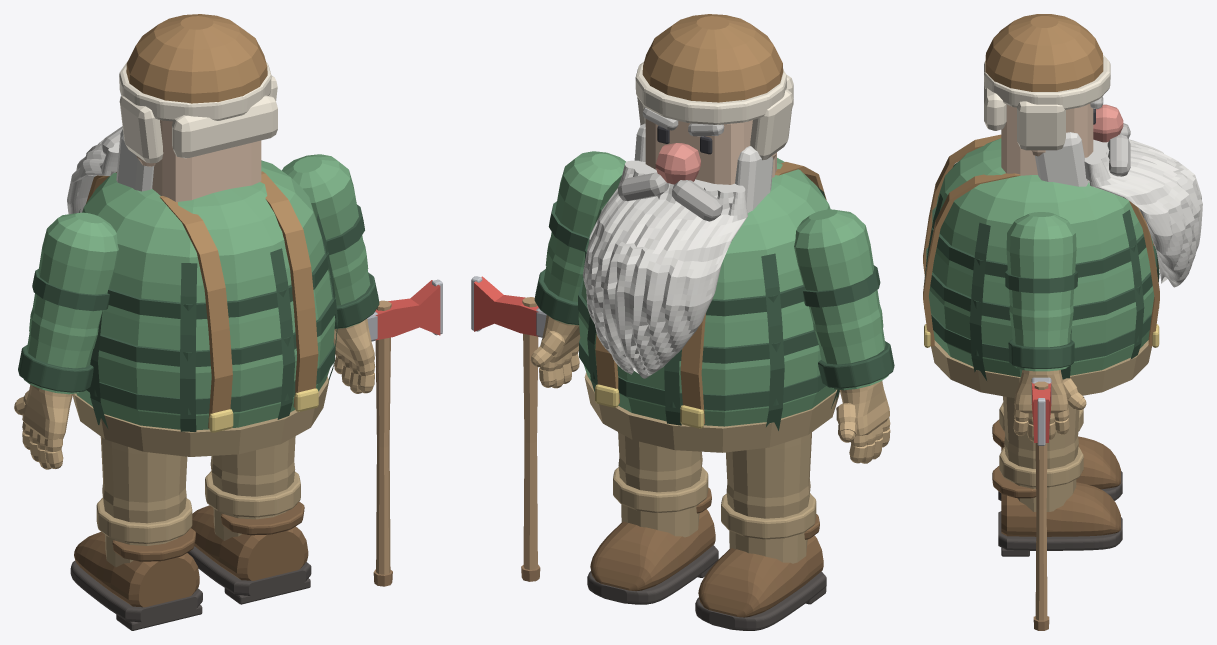
File: npc_lumberman.glb
3 views of the same model, side by side, from view 1: azimuth 30°, elevation 25°; view 2: azimuth 150°, elevation 25°; view 3: azimuth 270°, elevation 25° (orthographic). The views are drawn at different scales.
Visible parts, largest first — view 1: Belly, TrapperCrown, UpperArm_L, Waist, Boot_L, Face, Boot_R, Strap_B-1, Strap_B1, UpperArm_R, Thigh_L, FlapBack (+33 smaller); view 2: Beard, Belly, TrapperCrown, UpperArm_L, Waist, Boot_L, Boot_R, UpperArm_R, Thigh_L, TrapperBrim, Face, Axe_Handle (+32 smaller); view 3: Belly, Beard, TrapperCrown, UpperArm_R, Boot_R, Waist, Face, PlaidBand1, TrapperBrim, Flap_1, Axe_Handle, PlaidBand0 (+24 smaller).
Boxes of the visible parts, x1,y1,x2,y2 form: Belly: (76, 160, 335, 430); TrapperCrown: (126, 14, 267, 103); UpperArm_L: (33, 212, 118, 329); Waist: (73, 376, 328, 456); Boot_L: (74, 532, 199, 607); Face: (152, 120, 261, 201); Boot_R: (191, 505, 308, 580); Strap_B-1: (159, 196, 232, 428); Strap_B1: (260, 171, 318, 407); UpperArm_R: (282, 154, 364, 271); Thigh_L: (100, 436, 187, 502); FlapBack: (172, 95, 277, 158); Beard: (583, 160, 747, 378); Belly: (578, 158, 835, 426); TrapperCrown: (642, 14, 783, 102); UpperArm_L: (794, 209, 879, 325); Waist: (584, 372, 839, 452); Boot_L: (698, 535, 823, 617); Boot_R: (590, 509, 715, 591); UpperArm_R: (549, 151, 625, 267); Thigh_L: (726, 432, 811, 498); TrapperBrim: (635, 62, 786, 124); Face: (645, 119, 776, 184); Axe_Handle: (522, 297, 538, 569); Belly: (929, 138, 1154, 377); Beard: (1084, 139, 1202, 287); TrapperCrown: (985, 14, 1103, 91); UpperArm_R: (1006, 212, 1076, 310); Boot_R: (1001, 482, 1120, 536); Waist: (931, 340, 1151, 398); Face: (1001, 103, 1093, 175); PlaidBand1: (926, 246, 1156, 320); TrapperBrim: (984, 55, 1110, 109); Flap_1: (1017, 101, 1065, 150); Axe_Handle: (1034, 381, 1048, 620); PlaidBand0: (931, 313, 1151, 361).
Bounding box in the file's own units: 1.58 × 2.19 × 1.05.
